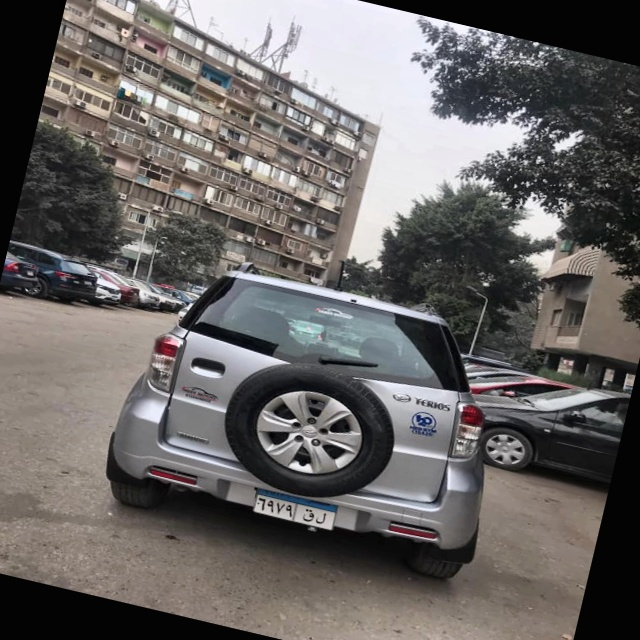License Plate: (250, 485, 341, 533)
